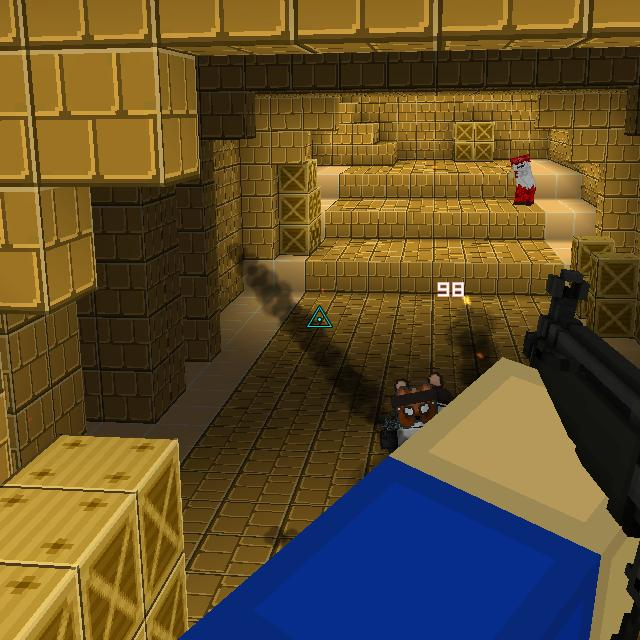enemy: (376, 373, 456, 454), (507, 153, 537, 206)
